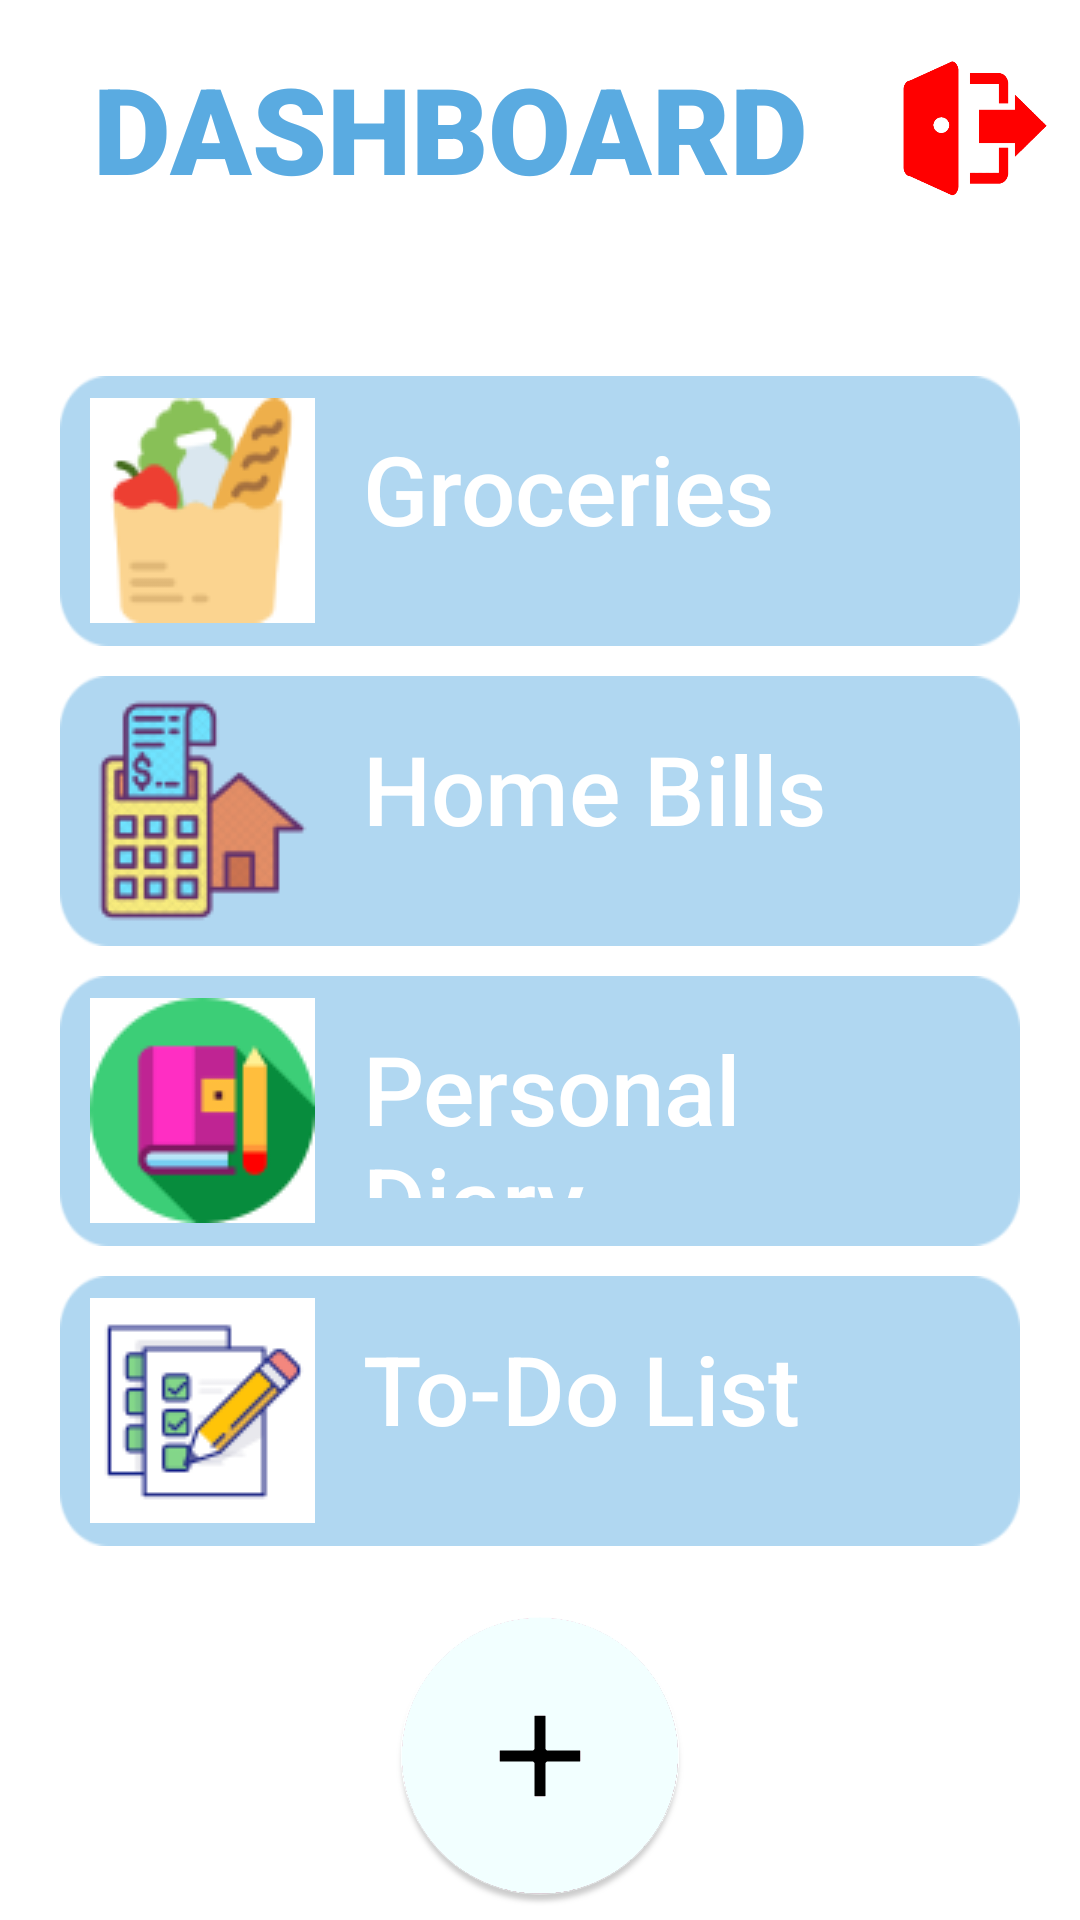

Point at icon controls on the screen. Image size 1080×1920, points as (x=x, y=y).
grocery: (x=202, y=510)
